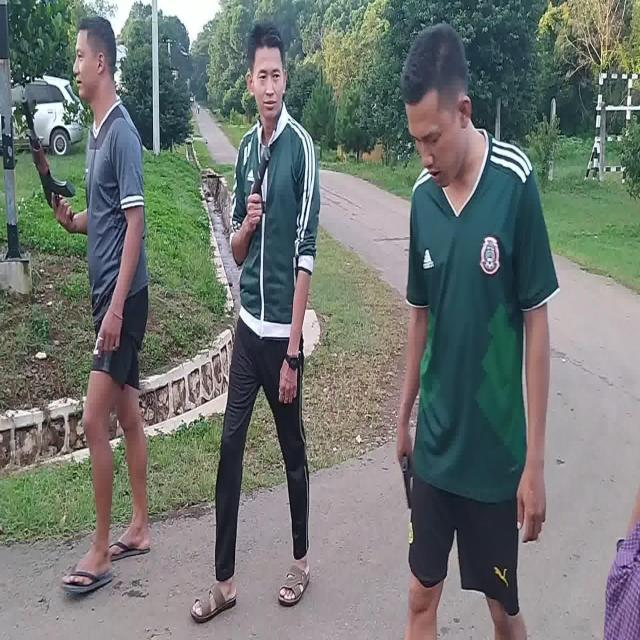gun: (21, 97, 76, 220), (402, 457, 410, 509)
